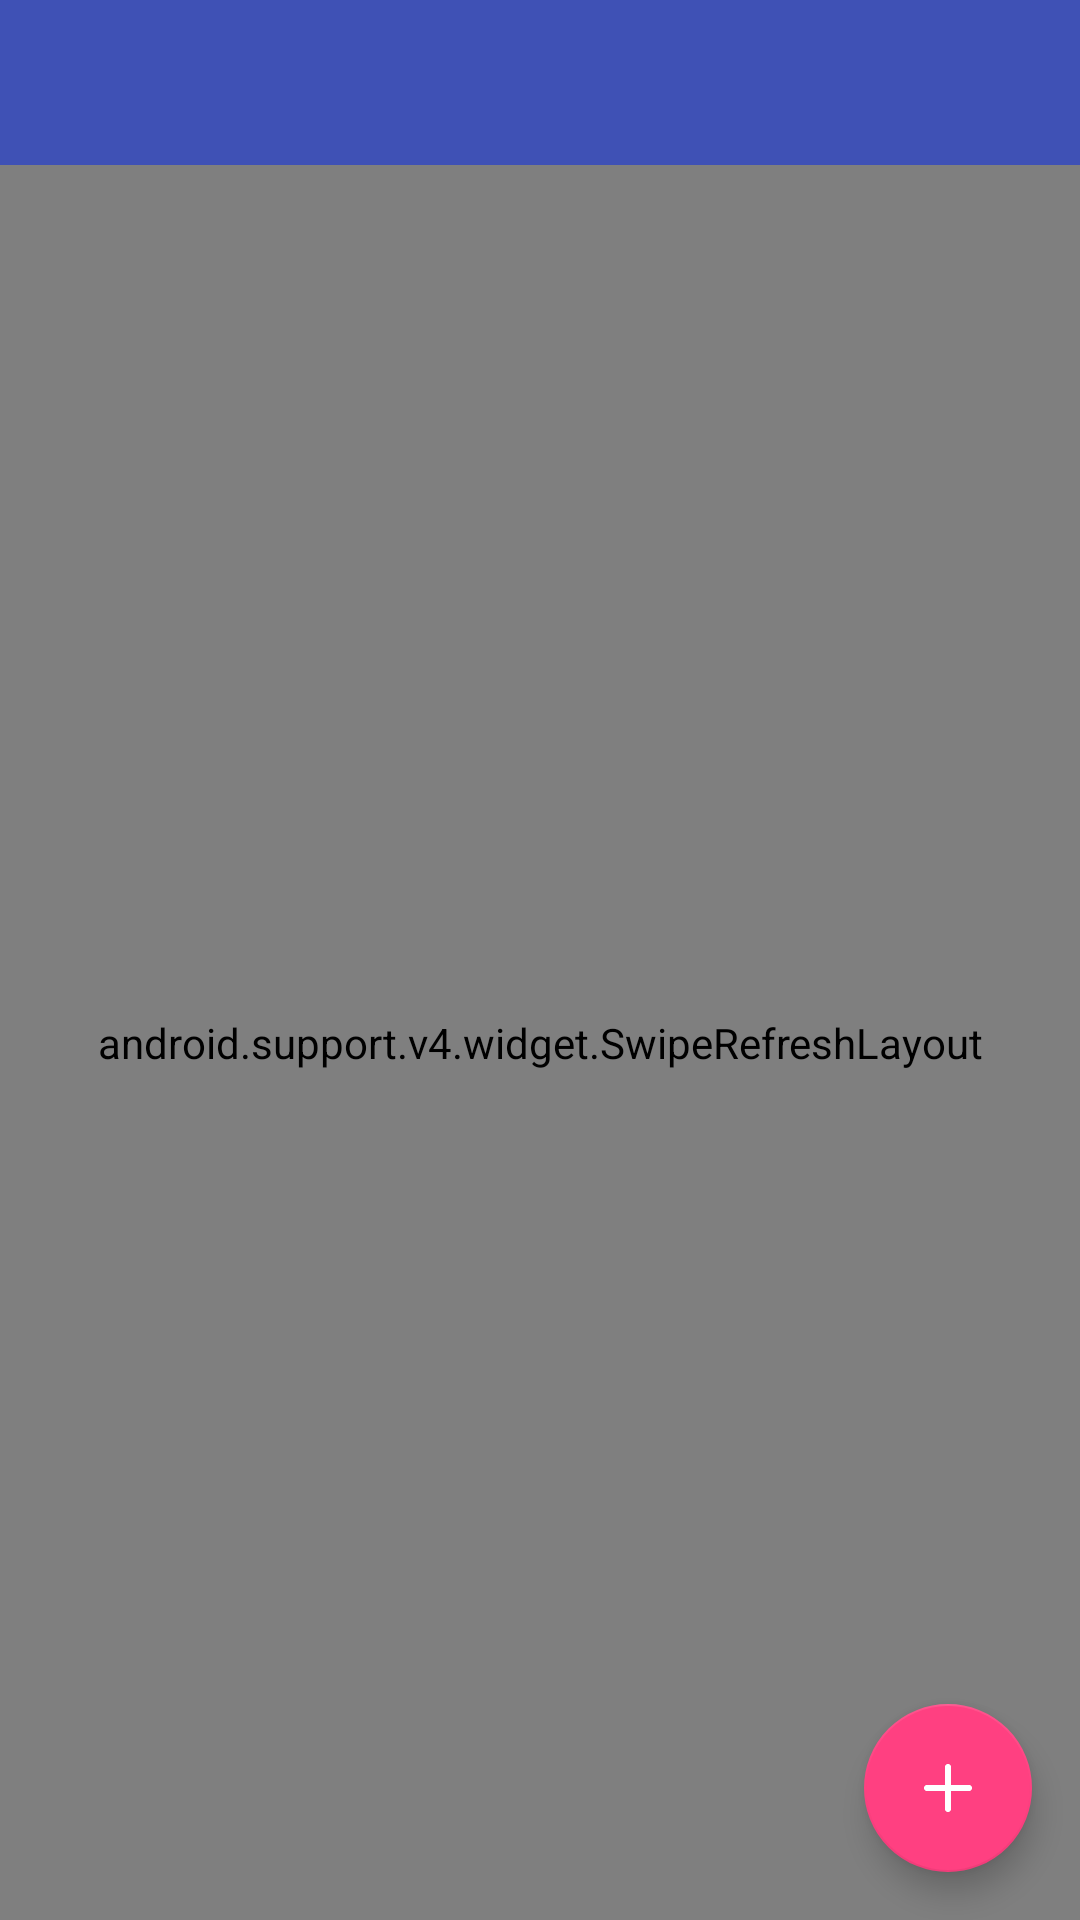

Point at icon controls on the screen. Image size 1080 x 1920, points as (x=x, y=y).
float add: (x=948, y=1788)
